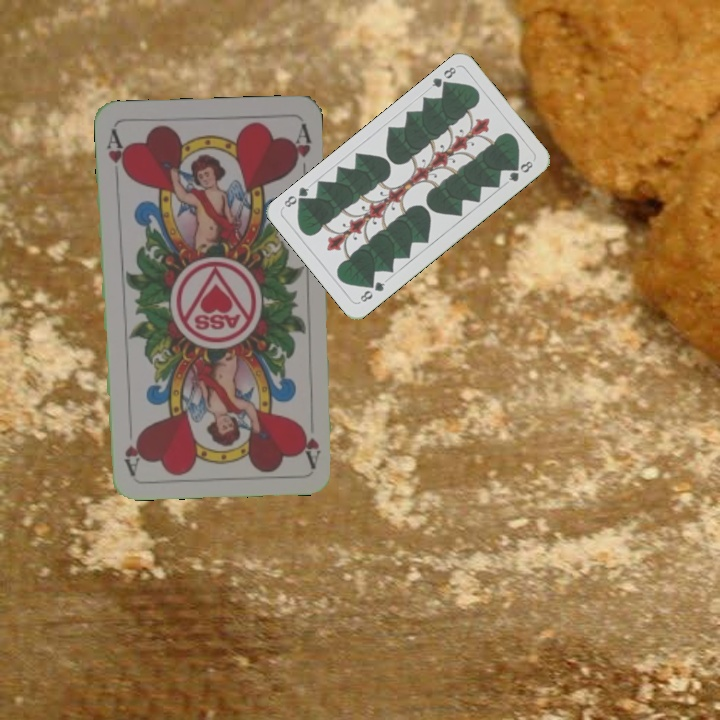G8: (428, 63, 459, 92), (356, 277, 388, 305)
HA: (103, 125, 130, 185), (297, 421, 324, 469)
